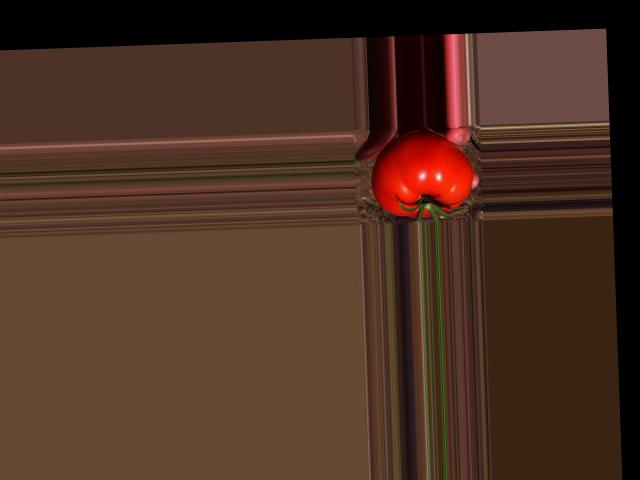tomato: (371, 129, 474, 218)
